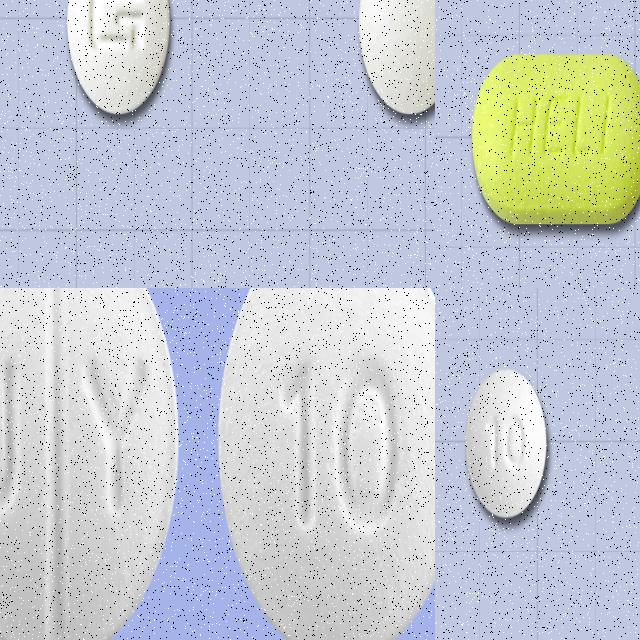Durova - 20mg: (218, 288, 435, 640), (0, 288, 181, 640)
Helico: (472, 54, 640, 226)
Lefexin: (66, 0, 171, 114), (358, 0, 435, 115)
R-A Tab: (464, 367, 548, 519)
